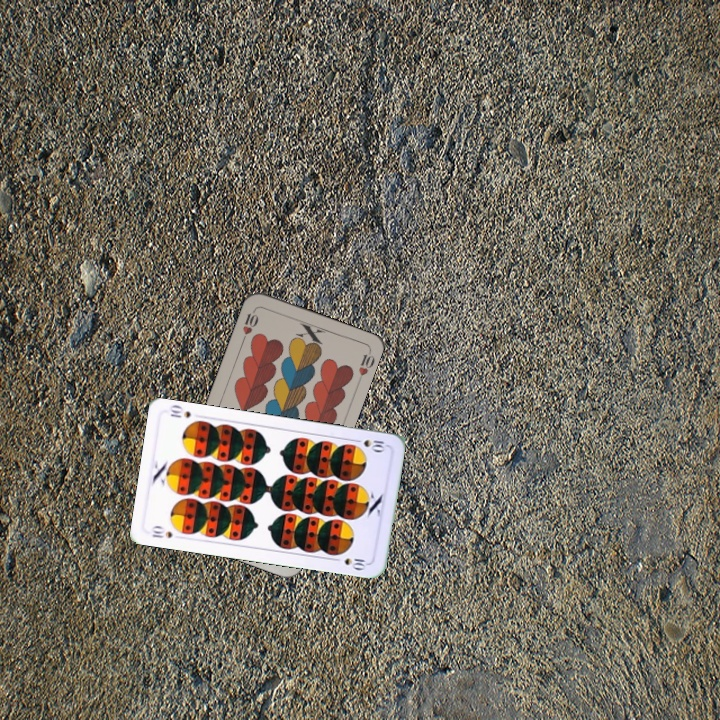H10: (238, 305, 261, 344)
S10: (349, 435, 389, 454), (148, 522, 175, 541)
